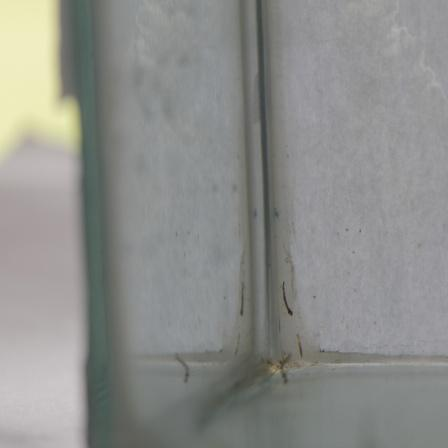Jentik-Nyamuk: (279, 278, 295, 321)
